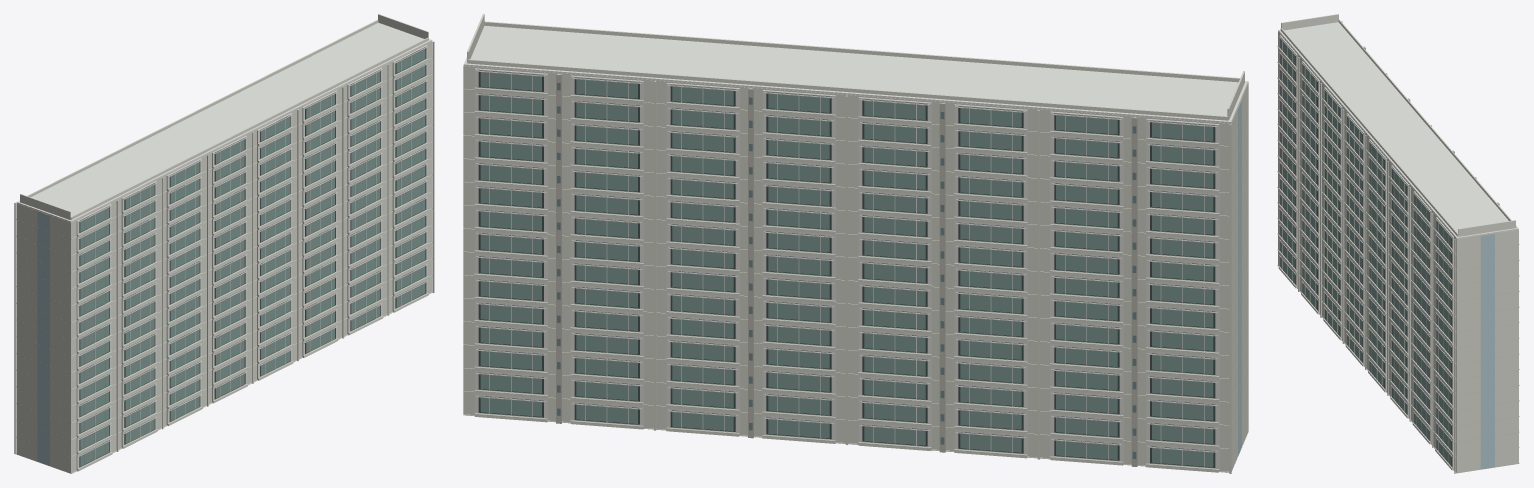
The model's file is bespoke-olympic-family-town-109.glb.
The picture shows the model from 3 angles, left to right: view 1: azimuth 30°, elevation 25°; view 2: azimuth 150°, elevation 25°; view 3: azimuth 270°, elevation 25°; orthographic projection. The views are drawn at different scales.
Visible parts, largest first — view 1: olympic-family-town109_editable_olympic-family-town109_pale_ (×2), olympic-family-town109_editable_olympic-family-town109_broad, olympic-family-town109_editable_olympic-family-town109_muted, olympic-family-town109_editable_olympic-family-town109_dark_; view 2: olympic-family-town109_editable_olympic-family-town109_muted, olympic-family-town109_editable_olympic-family-town109_pale_ (×2), olympic-family-town109_editable_olympic-family-town109_broad, olympic-family-town109_editable_olympic-family-town109_dark_, olympic-family-town109_editable_olympic-family-town109_warm_, olympic-family-town109_editable_olympic-family-town109_turqu; view 3: olympic-family-town109_editable_olympic-family-town109_pale_ (×2), olympic-family-town109_editable_olympic-family-town109_broad, olympic-family-town109_editable_olympic-family-town109_muted, olympic-family-town109_editable_olympic-family-town109_dark_, olympic-family-town109_editable_olympic-family-town109_light.
Part boxes in pixels (bbox=[...]): olympic-family-town109_editable_olympic-family-town109_pale_ (×2): bbox=[14, 14, 434, 473]; olympic-family-town109_editable_olympic-family-town109_broad: bbox=[16, 22, 432, 469]; olympic-family-town109_editable_olympic-family-town109_muted: bbox=[80, 49, 425, 466]; olympic-family-town109_editable_olympic-family-town109_dark_: bbox=[79, 47, 426, 467]; olympic-family-town109_editable_olympic-family-town109_muted: bbox=[480, 72, 1213, 467]; olympic-family-town109_editable_olympic-family-town109_pale_ (×2): bbox=[463, 14, 1248, 473]; olympic-family-town109_editable_olympic-family-town109_broad: bbox=[463, 25, 1248, 469]; olympic-family-town109_editable_olympic-family-town109_dark_: bbox=[478, 70, 1215, 467]; olympic-family-town109_editable_olympic-family-town109_warm_: bbox=[556, 74, 1137, 466]; olympic-family-town109_editable_olympic-family-town109_turqu: bbox=[557, 83, 1136, 458]; olympic-family-town109_editable_olympic-family-town109_pale_ (×2): bbox=[1277, 14, 1519, 473]; olympic-family-town109_editable_olympic-family-town109_broad: bbox=[1278, 22, 1518, 469]; olympic-family-town109_editable_olympic-family-town109_muted: bbox=[1280, 39, 1451, 465]; olympic-family-town109_editable_olympic-family-town109_dark_: bbox=[1280, 37, 1451, 466]; olympic-family-town109_editable_olympic-family-town109_light: bbox=[1457, 245, 1518, 472].
Bounding box in the file's own units: 86.9 × 45 × 40.68.
